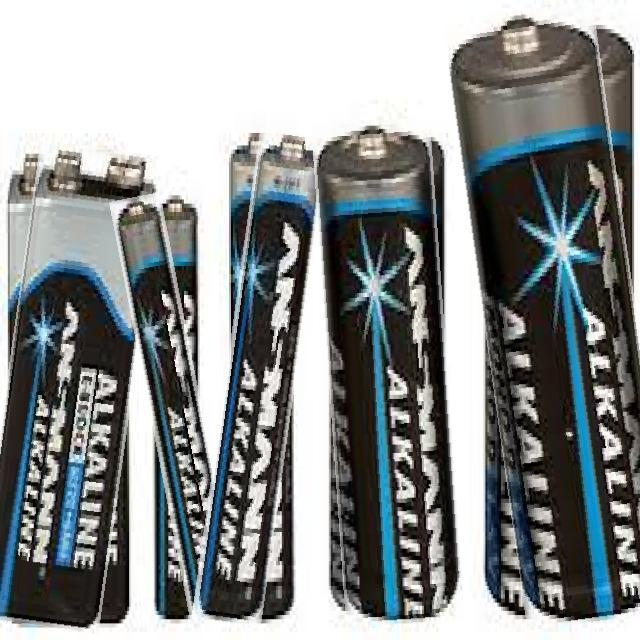Battery: (447, 9, 640, 640), (3, 142, 165, 632), (317, 113, 459, 640), (215, 118, 317, 626), (116, 183, 205, 638)
